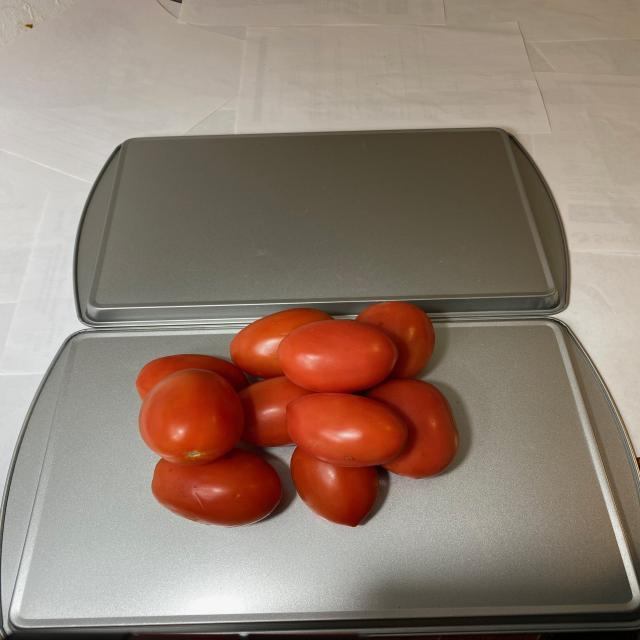tomato: (133, 298, 468, 533)
